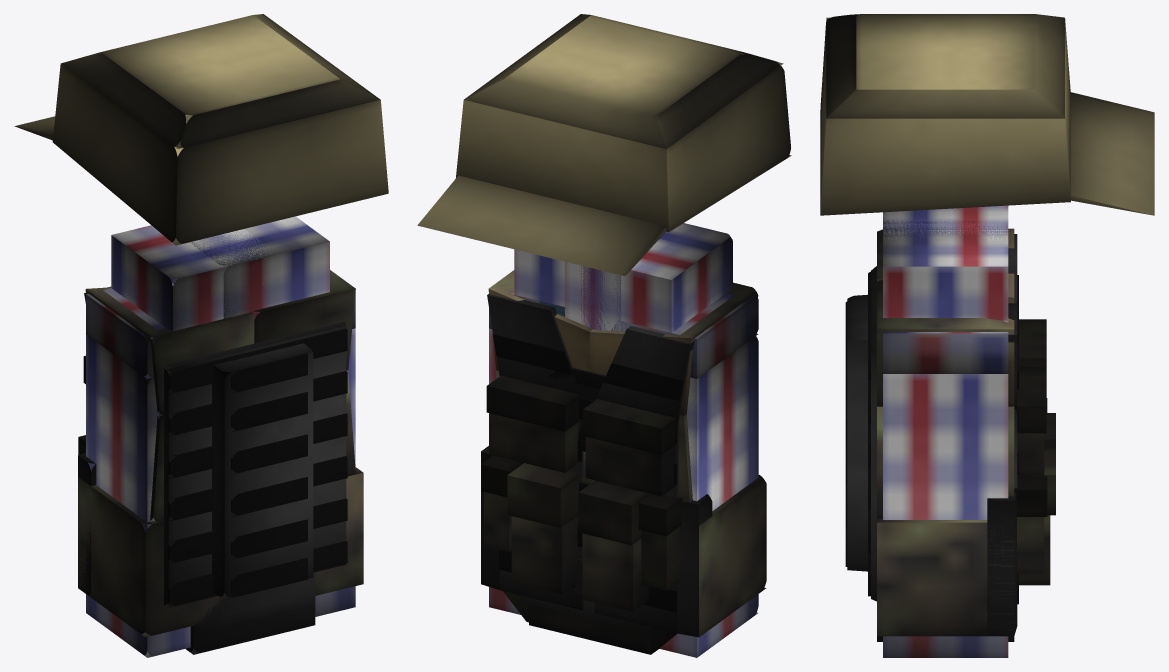
Rendered from militia.obj.
3 renders of one model, left to right at view 1: azimuth 30°, elevation 25°; view 2: azimuth 150°, elevation 25°; view 3: azimuth 270°, elevation 25°, orthographic.
Visible parts, largest first — view 1: headModel1, headModel2, bodyModel36, bodyModel3, bodyModel0, bodyModel29, rightArmModel1, leftArmModel1, leftBootModel0, bodyModel5, bodyModel6, bodyModel1 (+14 smaller); view 2: headModel1, headModel2, headModel0, bodyModel0, rightArmModel1, bodyModel3, leftArmModel1, bodyModel43, bodyModel13, bodyModel14, bodyModel45, bodyModel44 (+23 smaller); view 3: headModel2, headModel1, bodyModel0, bodyModel3, leftArmModel1, headModel0, bodyModel36, bodyModel2, bodyModel18, bodyModel6, rightArmModel1, bodyModel29 (+10 smaller).
Part boxes in pixels (left/top/right/bottom): headModel1: left=52, top=64, right=388, bottom=245; headModel2: left=61, top=14, right=380, bottom=148; bodyModel36: left=212, top=343, right=313, bottom=598; bodyModel3: left=78, top=467, right=363, bottom=637; bodyModel0: left=86, top=328, right=355, bottom=657; bodyModel29: left=145, top=321, right=346, bottom=607; rightArmModel1: left=111, top=225, right=269, bottom=338; leftArmModel1: left=170, top=216, right=329, bottom=319; leftBootModel0: left=185, top=572, right=315, bottom=654; bodyModel5: left=85, top=287, right=254, bottom=415; bodyModel6: left=253, top=270, right=355, bottom=370; bodyModel1: left=86, top=283, right=173, bottom=378; headModel1: left=456, top=53, right=791, bottom=232; headModel2: left=464, top=14, right=783, bottom=149; headModel0: left=417, top=175, right=666, bottom=276; bodyModel0: left=489, top=328, right=758, bottom=657; rightArmModel1: left=565, top=223, right=732, bottom=332; bodyModel3: left=584, top=475, right=766, bottom=637; leftArmModel1: left=514, top=249, right=620, bottom=331; bodyModel43: left=511, top=515, right=578, bottom=594; bodyModel13: left=595, top=326, right=694, bottom=420; bodyModel14: left=487, top=294, right=581, bottom=397; bodyModel45: left=582, top=533, right=648, bottom=611; bodyModel44: left=507, top=463, right=579, bottom=527; headModel2: left=826, top=14, right=1064, bottom=118; headModel1: left=820, top=19, right=1070, bottom=215; bodyModel0: left=883, top=374, right=1008, bottom=657; bodyModel3: left=877, top=518, right=1014, bottom=636; leftArmModel1: left=883, top=218, right=1008, bottom=320; headModel0: left=1070, top=92, right=1154, bottom=215; bodyModel36: left=847, top=294, right=870, bottom=571; bodyModel2: left=883, top=320, right=1008, bottom=373; bodyModel18: left=987, top=492, right=1017, bottom=636; bodyModel6: left=877, top=280, right=1014, bottom=406; rightArmModel1: left=883, top=205, right=1008, bottom=241; bodyModel29: left=871, top=266, right=876, bottom=601.
Size of the model in its own units: 8.6 by 20.7 by 11.2.
